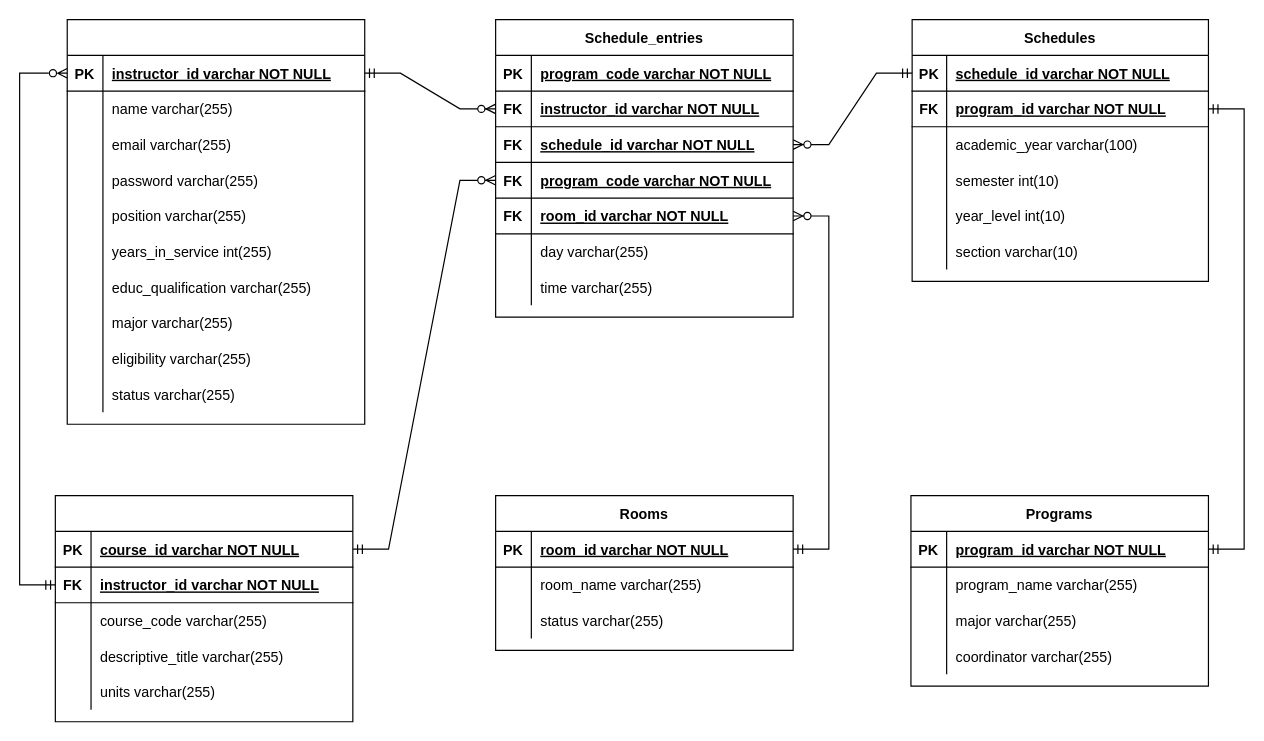
This 1264x741 diagram has some shape labels left out. The shapes that lost their labels are listed below. From the top down, each one's box as (x1, y1, x2, y2) in pixels, then its label:
(66, 18, 365, 424): Instructors
(54, 494, 353, 722): Courses
